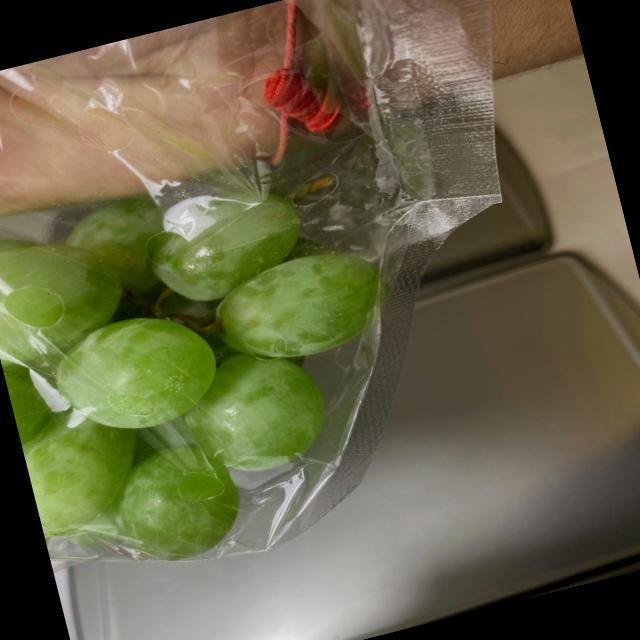grapes: (0, 141, 444, 606)
